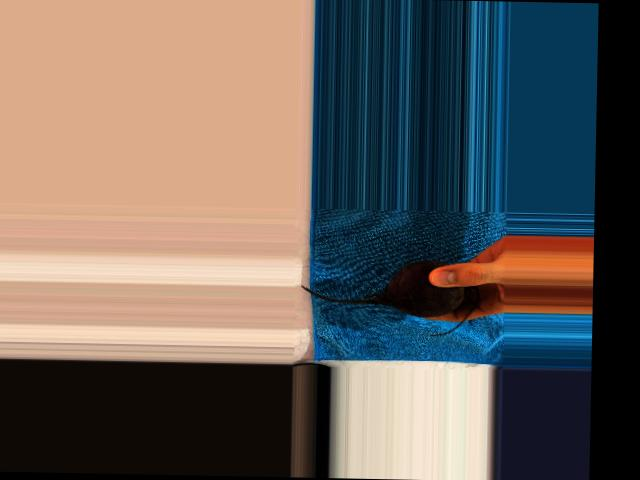beet: (299, 257, 479, 335)
